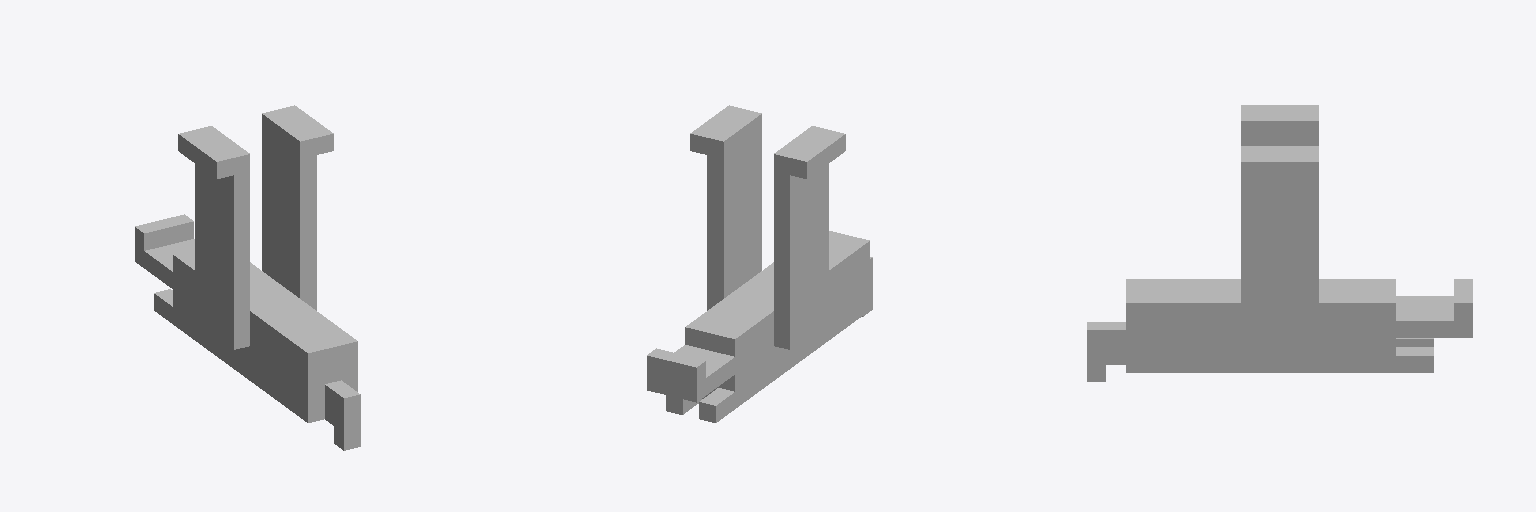
Rendered from eagle_1.obj.
3 renders of one model, left to right at view 1: azimuth 30°, elevation 25°; view 2: azimuth 150°, elevation 25°; view 3: azimuth 270°, elevation 25°, orthographic.
Visible parts, largest first — view 1: eagle_1; view 2: eagle_1; view 3: eagle_1.
Boxes of the visible parts, box(x1,y1,x2,y2) form: eagle_1: box(135, 105, 360, 450); eagle_1: box(647, 105, 872, 422); eagle_1: box(1087, 105, 1472, 381).
Size of the model in its own units: 0.875 by 1.75 by 2.5.